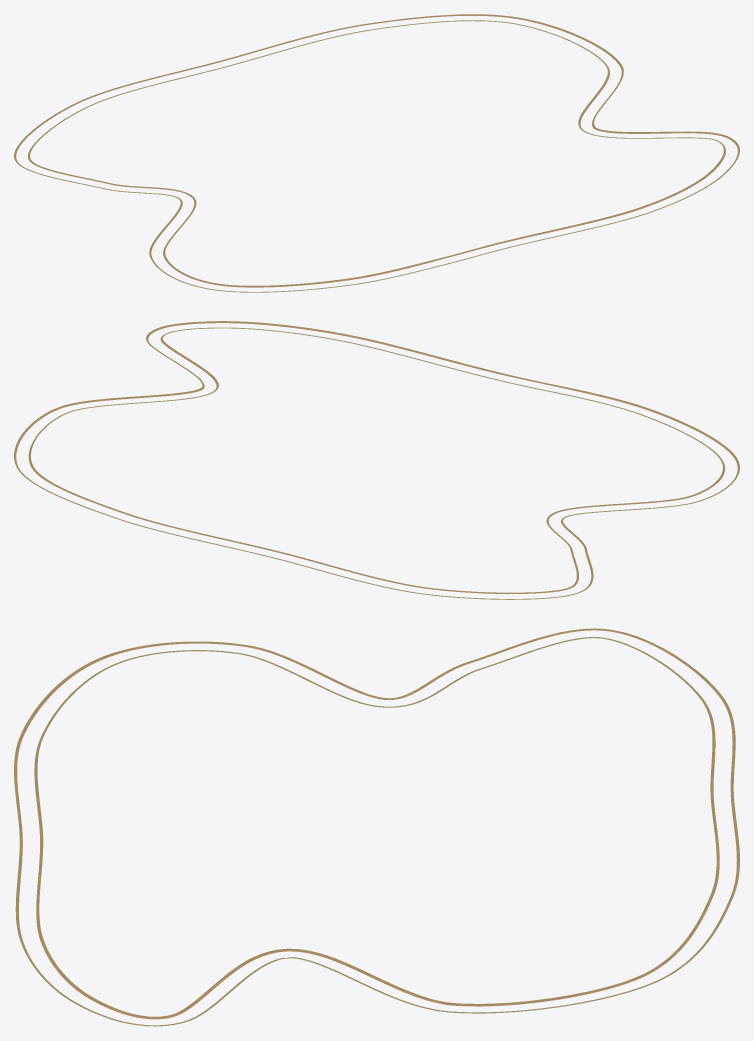
File: road_shoulders.glb
The picture shows the model from 3 angles, top to bottom: view 1: azimuth 30°, elevation 25°; view 2: azimuth 150°, elevation 25°; view 3: azimuth 270°, elevation 25°; orthographic projection. The views are drawn at different scales.
Parts seen in each view (by area): view 1: primitive_road_shoulders; view 2: primitive_road_shoulders; view 3: primitive_road_shoulders.
Boxes of the visible parts, x1,y1,x2,y2 form: primitive_road_shoulders: (14, 14, 739, 292); primitive_road_shoulders: (14, 321, 739, 599); primitive_road_shoulders: (14, 628, 739, 1026).
Bounding box in the file's own units: 946 × 26.25 × 736.
